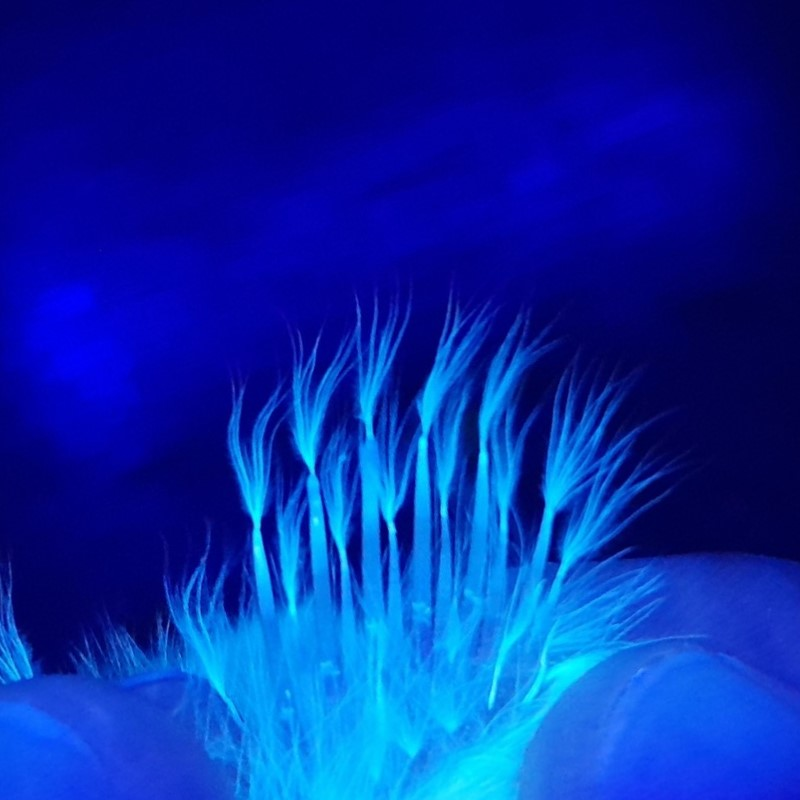female: (226, 422, 583, 763)
